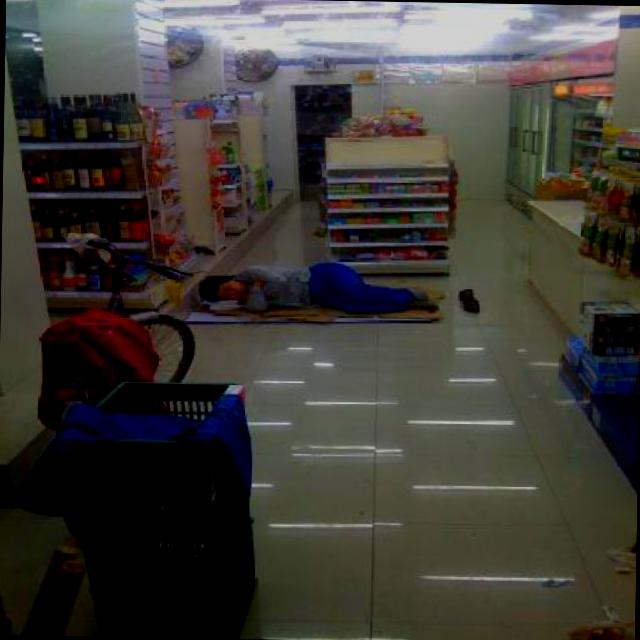Person: (187, 260, 443, 317)
